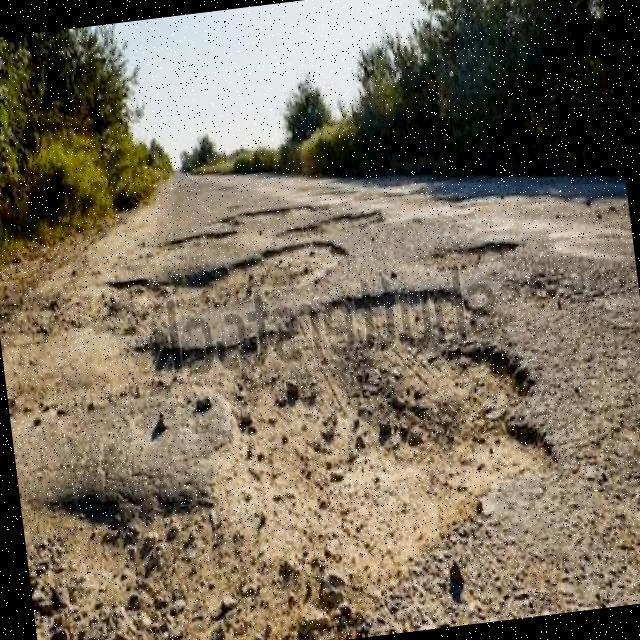Pothole: (0, 239, 561, 640), (271, 201, 384, 243), (432, 241, 523, 278), (153, 226, 241, 255), (237, 199, 329, 225)
